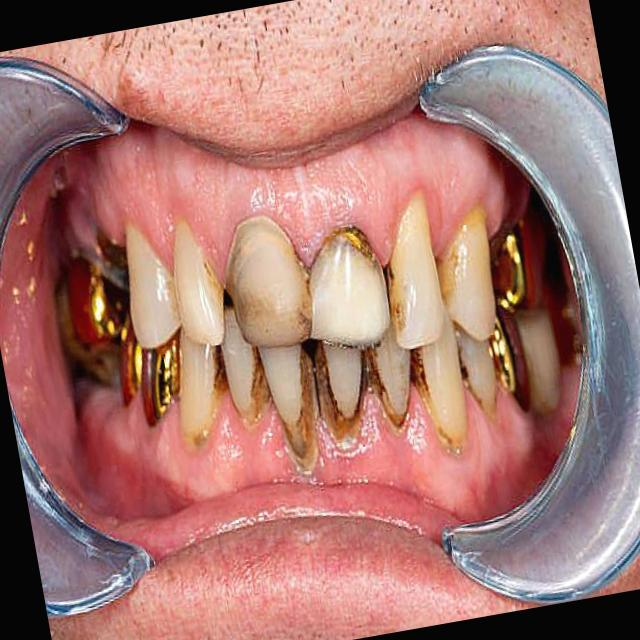calculus: (300, 320, 391, 470), (422, 196, 509, 347), (295, 204, 396, 316), (259, 340, 332, 476), (170, 336, 244, 456), (404, 334, 475, 458), (362, 325, 430, 454), (215, 315, 276, 441)
